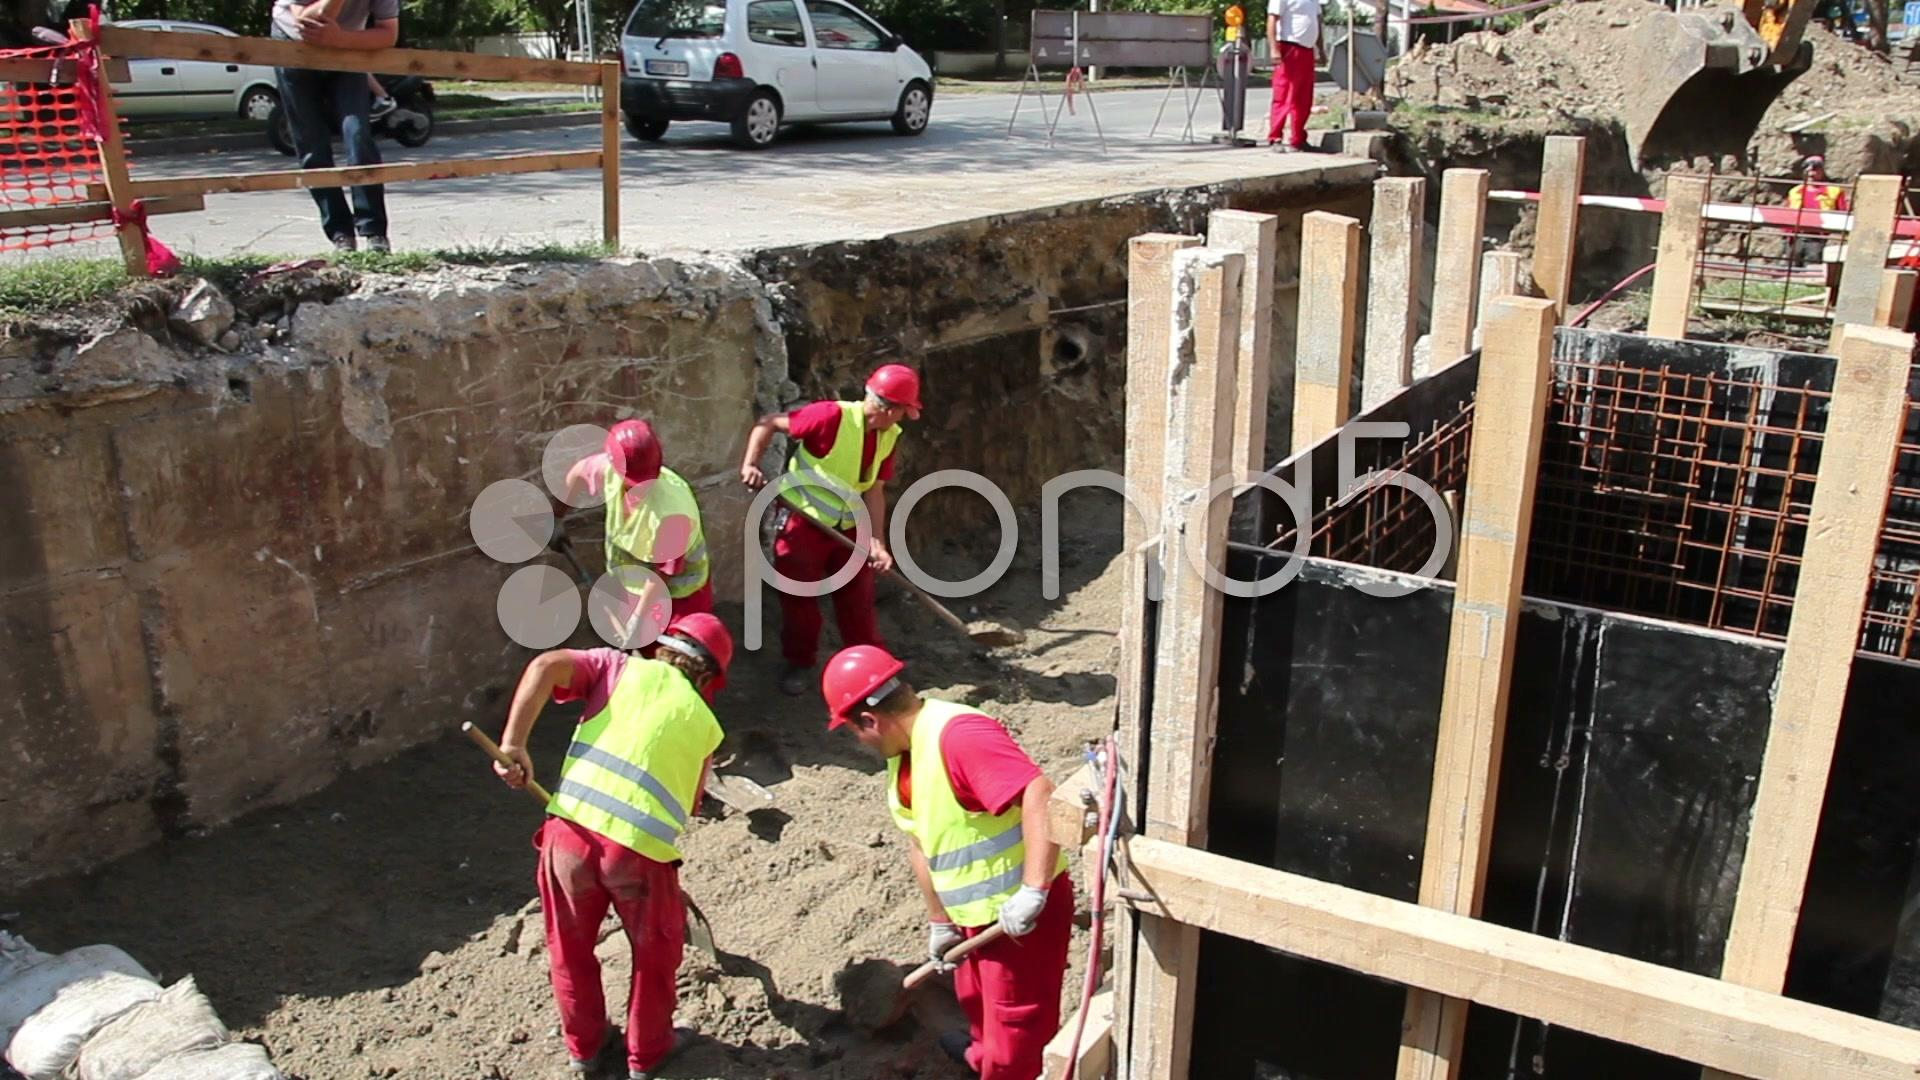hat: (791, 631, 943, 757), (639, 601, 743, 707), (593, 391, 683, 511), (849, 345, 937, 449)
no hat: (1797, 147, 1839, 197)
no vest: (243, 1, 437, 89), (1245, 1, 1353, 69)
vest: (859, 705, 1083, 955), (557, 663, 729, 891), (777, 395, 915, 621), (553, 449, 723, 611), (1781, 177, 1863, 243)
